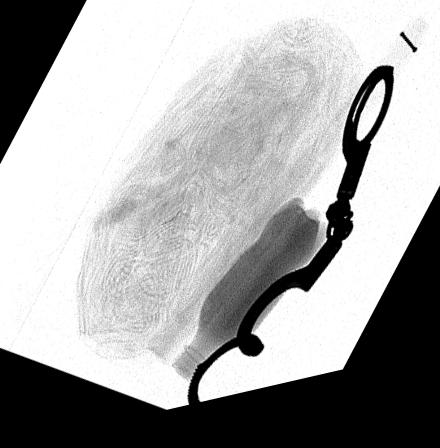HandCuffs: (185, 83, 392, 414)
